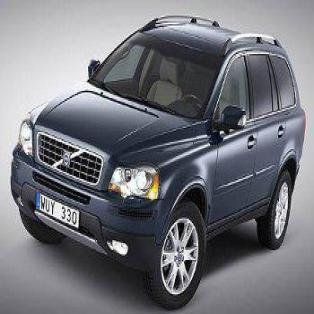Auto: (5, 8, 306, 310)
